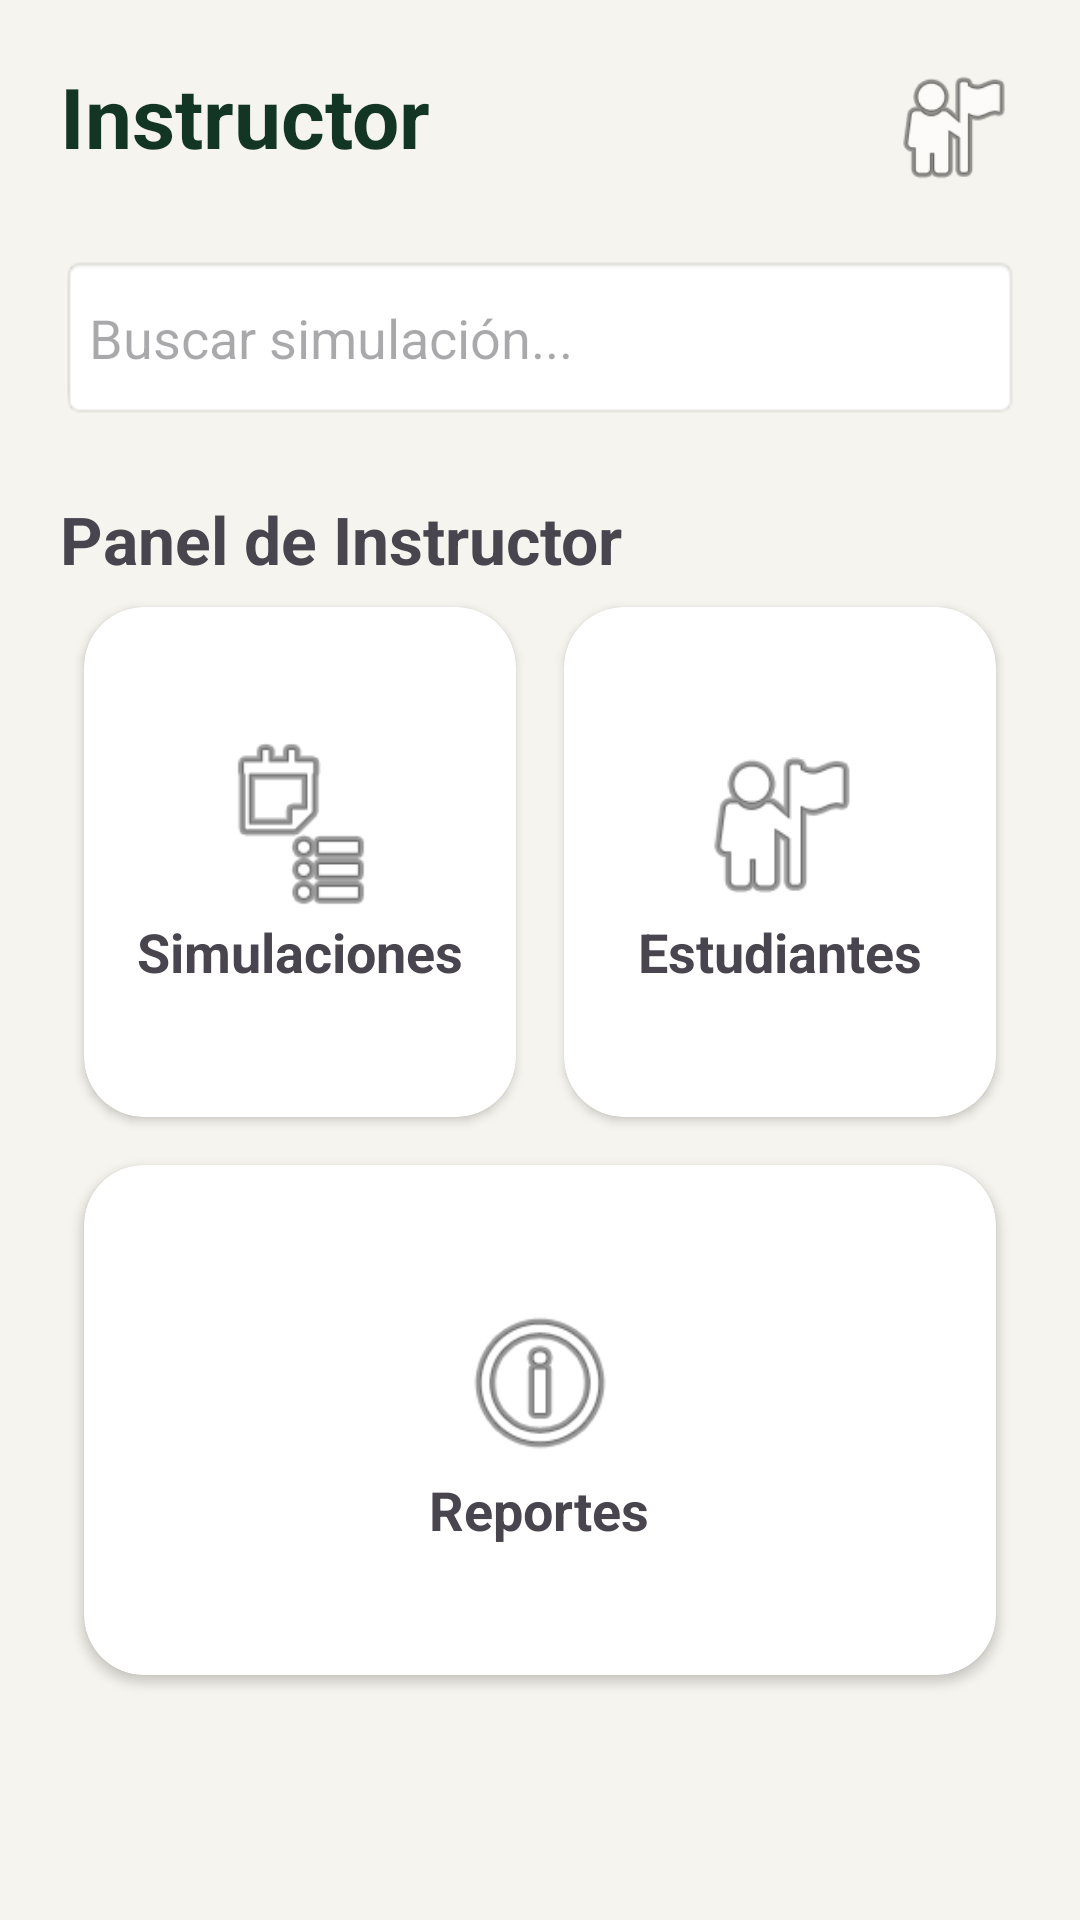

Named icons in this screenshot (1080×1920) and their centers, point (x, y):
agenda: point (301, 824)
info details: point (540, 1383)
myplaces: point (954, 127), point (782, 825)
